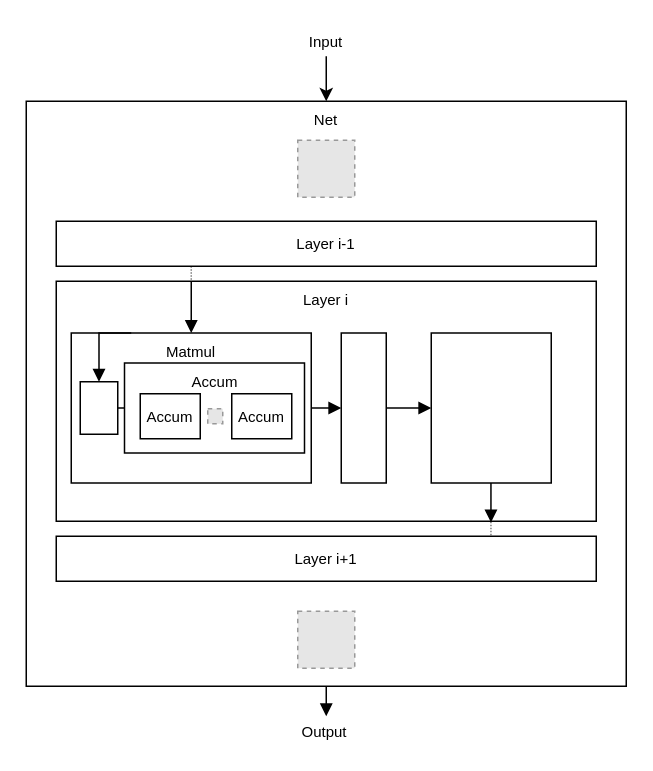
The diagram is 653 pixels wide and 771 high, and some of its shapes have lost their labels. Grey dashed boxes stand in for pictures. The shapes that lost their labels are listed below. From the top down, each one's centre as x and y in pixels, then its label:
At point 98,407: "Mul".
At point 363,407: "Bias".
At point 490,407: "Transfer".
